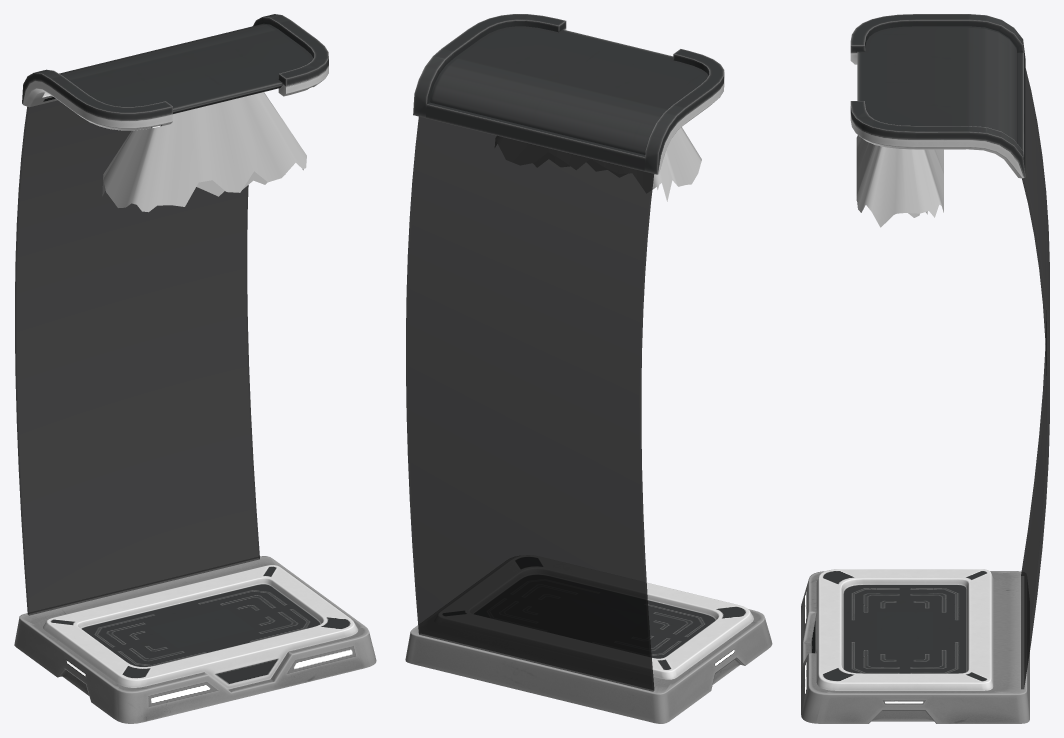
Rendered from LabHoloProjector03.FBX.
3 views of the same model, side by side, from view 1: azimuth 30°, elevation 25°; view 2: azimuth 150°, elevation 25°; view 3: azimuth 270°, elevation 25° (orthographic).
Parts seen in each view (by area): view 1: Glass, LabHoloProjector03, Volume; view 2: Glass, LabHoloProjector03, Volume; view 3: LabHoloProjector03, Glass, Volume.
Part boxes in pixels (x1=…): Glass: x1=15, y1=100, x2=259, y2=615; LabHoloProjector03: x1=14, y1=14, x2=376, y2=723; Volume: x1=102, y1=92, x2=306, y2=212; Glass: x1=406, y1=116, x2=654, y2=691; LabHoloProjector03: x1=405, y1=14, x2=772, y2=723; Volume: x1=495, y1=127, x2=701, y2=201; LabHoloProjector03: x1=801, y1=14, x2=1029, y2=723; Glass: x1=1021, y1=68, x2=1049, y2=689; Volume: x1=856, y1=135, x2=943, y2=227.
Size of what is drawn, in the model's own units: 1.23 by 2.65 by 1.02.
